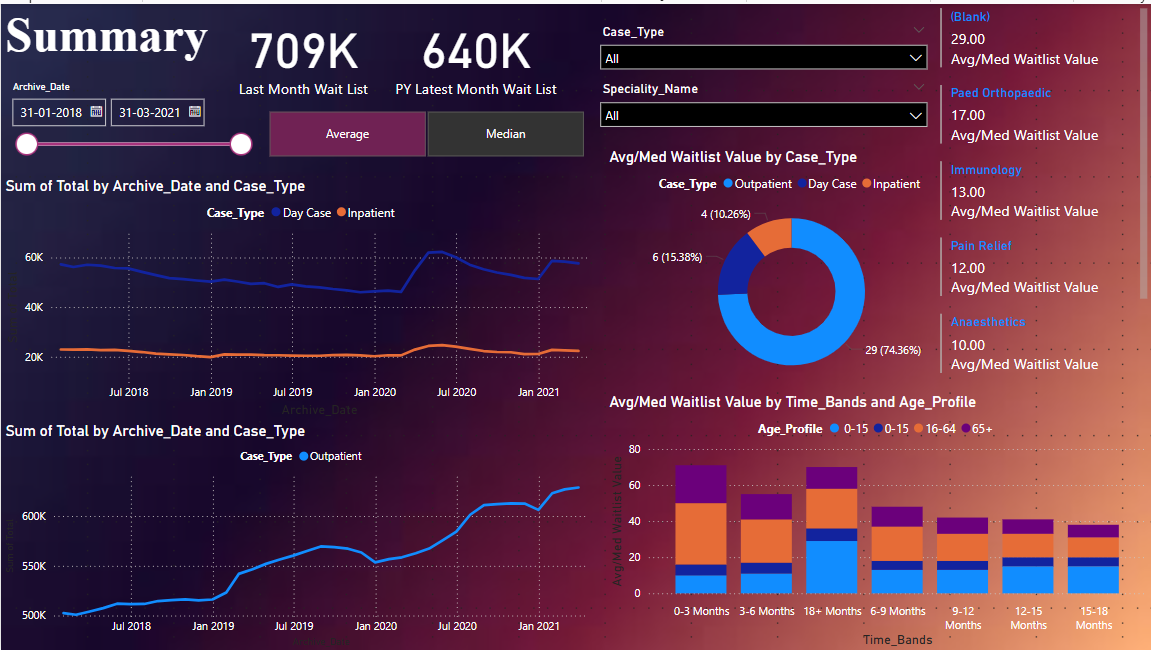

What the dashboard file says about the page in this screenshot:
{"tool":"powerbi","page":{"name":"Summary","canvas":[1280,720],"ordinal":0},"visuals":[{"type":"card","fields":{"Values":["All_Data.Last Month Wait List"]},"box":[240,0,192,112],"z":0},{"type":"card","fields":{"Values":["All_Data.PY Latest Month Wait List"]},"box":[432,0,192,112],"z":1000},{"type":"slicer","fields":{"Values":["Calculation Method.Calc Method"]},"box":[272,112,400,64],"z":2000},{"type":"donutChart","fields":{"Category":["All_Data.Case_Type"],"Y":["All_Data.Avg/Med Waitlist Value"]},"box":[672,160,416,272],"z":3000},{"type":"columnChart","fields":{"Category":["All_Data.Time_Bands"],"Y":["All_Data.Avg/Med Waitlist Value"],"Series":["All_Data.Age_Profile"]},"box":[672,432,608,288],"z":4000},{"type":"multiRowCard","fields":{"Values":["All_Data.Avg/Med Waitlist Value","All_Data.Specialty_Name"]},"box":[1040,0,240,416],"z":5000},{"type":"lineChart","fields":{"Category":["All_Data.Archive_Date"],"Y":["Sum(All_Data.Total)"],"Series":["All_Data.Case_Type"]},"box":[0,192,672,272],"z":6000},{"type":"lineChart","fields":{"Category":["All_Data.Archive_Date"],"Y":["Sum(All_Data.Total)"],"Series":["All_Data.Case_Type"]},"box":[0,464,672,256],"z":7000},{"type":"slicer","fields":{"Values":["All_Data.Archive_Date"]},"box":[0,80,288,96],"z":8000},{"type":"slicer","fields":{"Values":["All_Data.Case_Type"]},"box":[656,16,384,64],"z":9000},{"type":"slicer","fields":{"Values":["All_Data.Speciality_Name"]},"box":[656,80,384,64],"z":10000},{"type":"textbox","box":[0,0,256,80],"z":11000}]}

Visuals, with their boxes in screenshot pixels (x1, y1, x2, y2), scaled from the page's 1280x720 canvas onto the 1151x650 screenshot:
card - All_Data.Last Month Wait List: 216 0 388 101
card - All_Data.PY Latest Month Wait List: 388 0 561 101
slicer - Calculation Method.Calc Method: 245 101 604 159
donutChart - All_Data.Case_Type x All_Data.Avg/Med Waitlist Value: 604 144 978 390
columnChart - All_Data.Time_Bands x All_Data.Avg/Med Waitlist Value: 604 390 1150 649
multiRowCard - All_Data.Avg/Med Waitlist Value x All_Data.Specialty_Name: 935 0 1150 376
lineChart - All_Data.Archive_Date x Sum(All_Data.Total): 0 173 604 419
lineChart - All_Data.Archive_Date x Sum(All_Data.Total): 0 419 604 649
slicer - All_Data.Archive_Date: 0 72 259 159
slicer - All_Data.Case_Type: 590 14 935 72
slicer - All_Data.Speciality_Name: 590 72 935 130
textbox: 0 0 230 72
